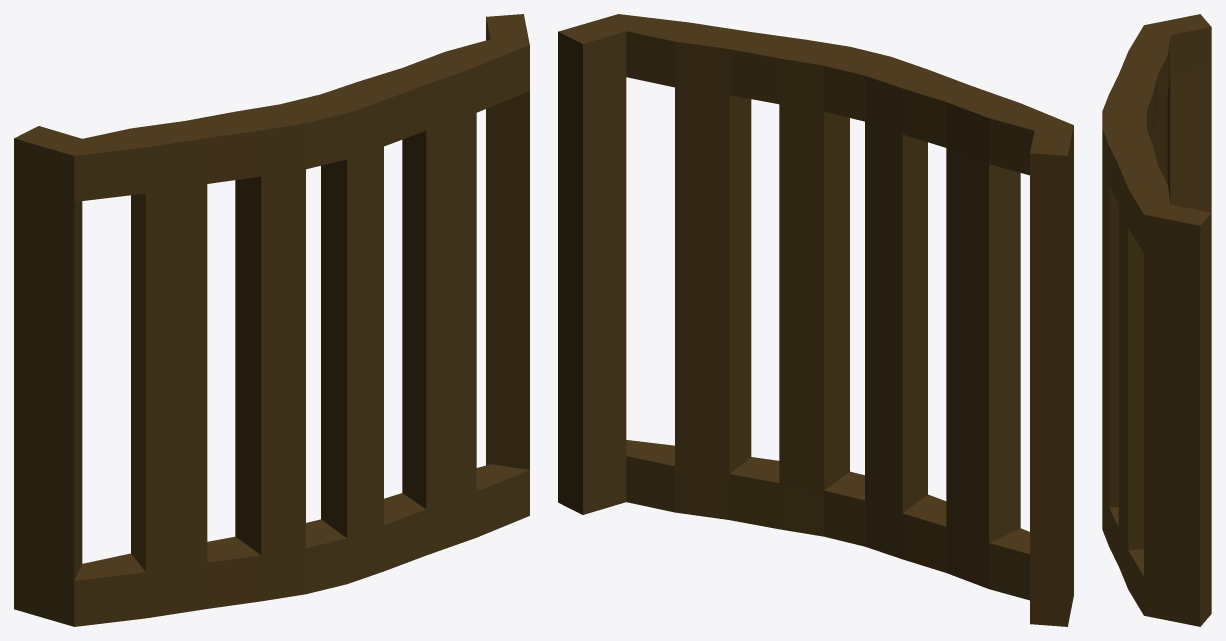
The model's file is SteamBoilerGrill.fbx.
The picture shows the model from 3 angles, left to right: view 1: azimuth 30°, elevation 25°; view 2: azimuth 150°, elevation 25°; view 3: azimuth 270°, elevation 25°; orthographic projection. The views are drawn at different scales.
Visible parts, largest first — view 1: Grill; view 2: Grill; view 3: Grill.
Part boxes in pixels (<box>): Grill: <box>14,14,529,626</box>; Grill: <box>558,14,1073,626</box>; Grill: <box>1102,14,1211,626</box>.
Bounding box in the file's own units: 127 × 112 × 27.76.
